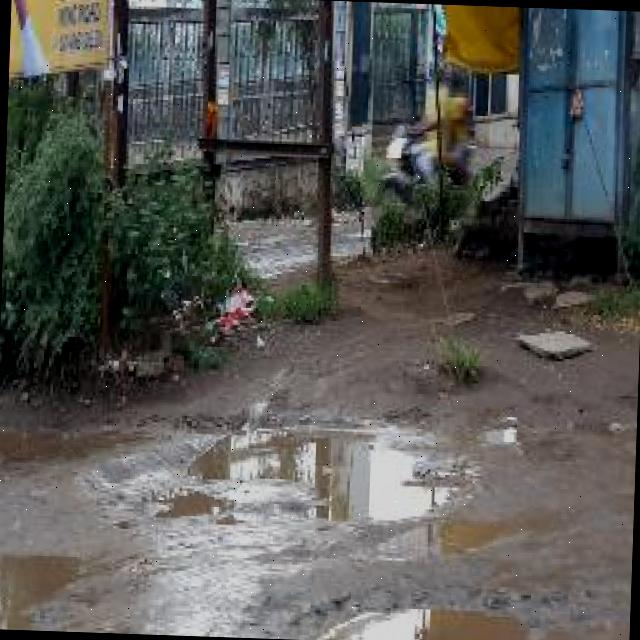waterlogging: (145, 404, 484, 550), (298, 585, 550, 640)
